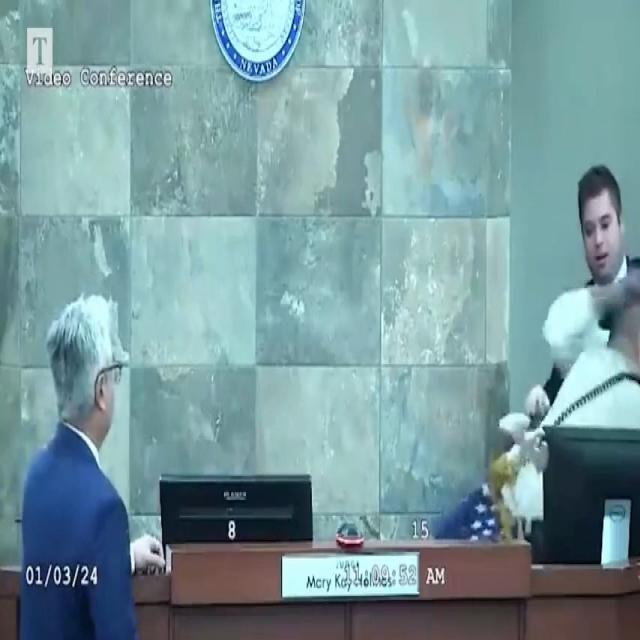fight: (524, 149, 640, 464)
non-fight: (12, 277, 164, 640)
